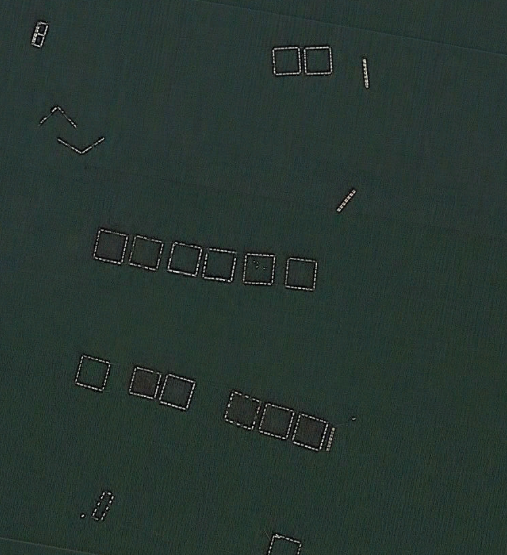square: (276, 243, 327, 296), (219, 385, 270, 437), (70, 346, 115, 396), (123, 361, 169, 409), (289, 410, 334, 458), (88, 225, 134, 269), (159, 368, 199, 418), (160, 240, 204, 284), (196, 246, 240, 288), (258, 399, 299, 444), (236, 254, 282, 294), (265, 41, 309, 82), (124, 234, 165, 276), (256, 526, 315, 555), (297, 45, 339, 77)
